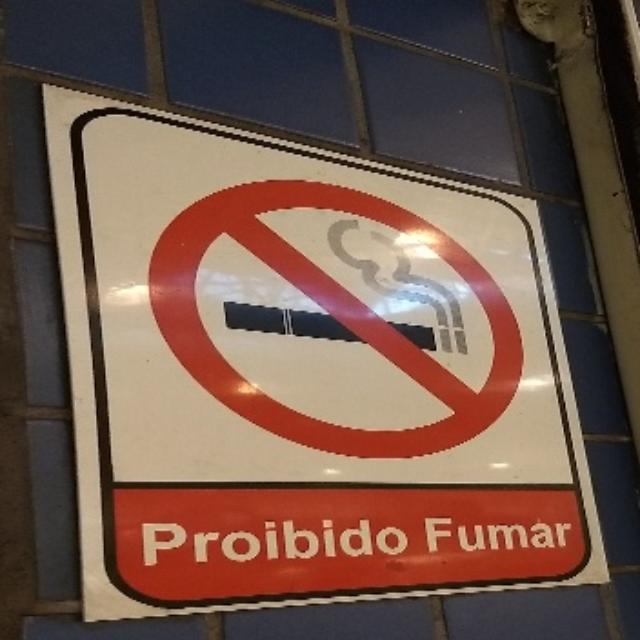cam hut thuoc: (151, 180, 522, 456)
